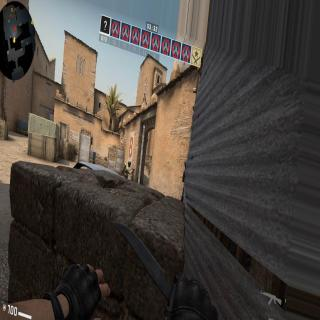CT-Body: (122, 160, 132, 178)
CT-Head: (128, 160, 132, 166)
